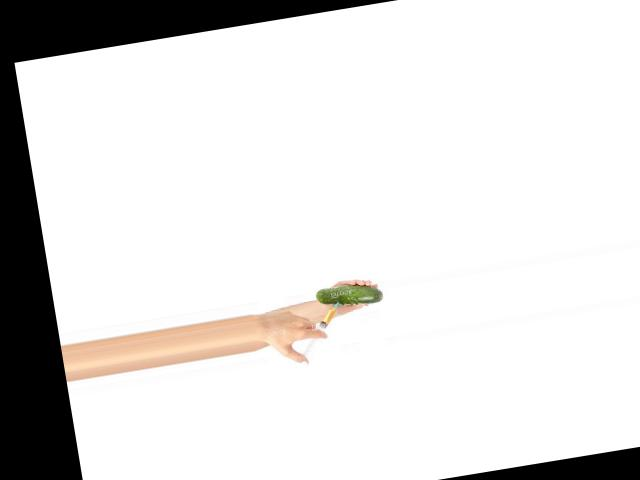cucumber: (315, 279, 384, 311)
